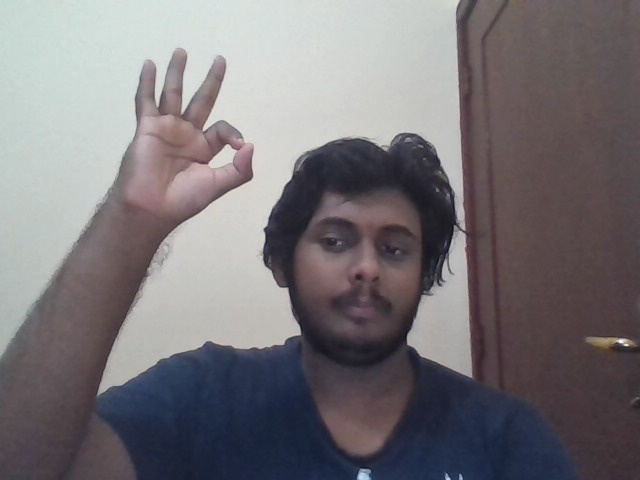ok: (125, 47, 255, 226)
